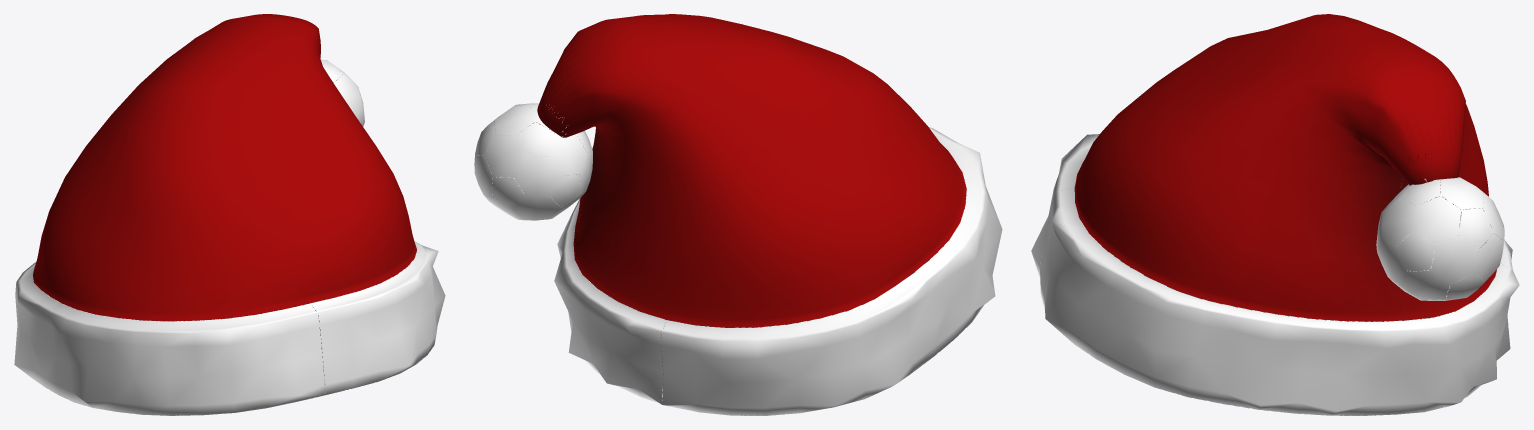
The model's file is santahat.fbx.
3 views of the same model, side by side, from view 1: azimuth 30°, elevation 25°; view 2: azimuth 150°, elevation 25°; view 3: azimuth 270°, elevation 25° (orthographic). The views are drawn at different scales.
Visible parts, largest first — view 1: santasuit_hat1; view 2: santasuit_hat1; view 3: santasuit_hat1.
Part boxes in pixels (x1,y1,x2,y2): santasuit_hat1: (14, 14, 445, 415); santasuit_hat1: (474, 14, 1002, 415); santasuit_hat1: (1031, 14, 1519, 415).
Bounding box in the file's own units: 15.05 × 11.46 × 14.63.
